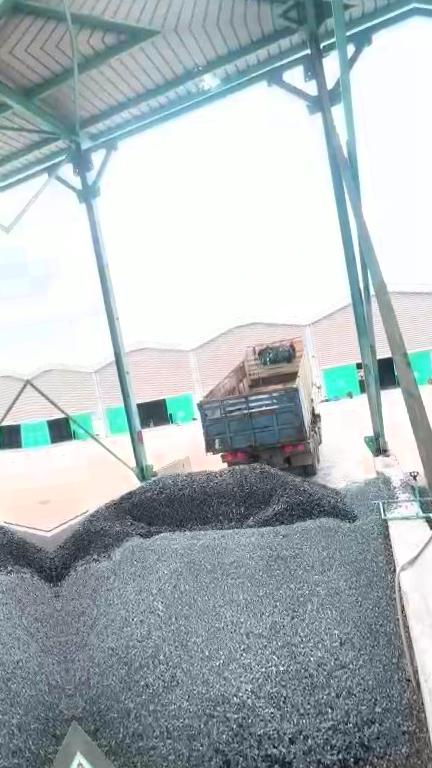gravel: (52, 464, 432, 768)
